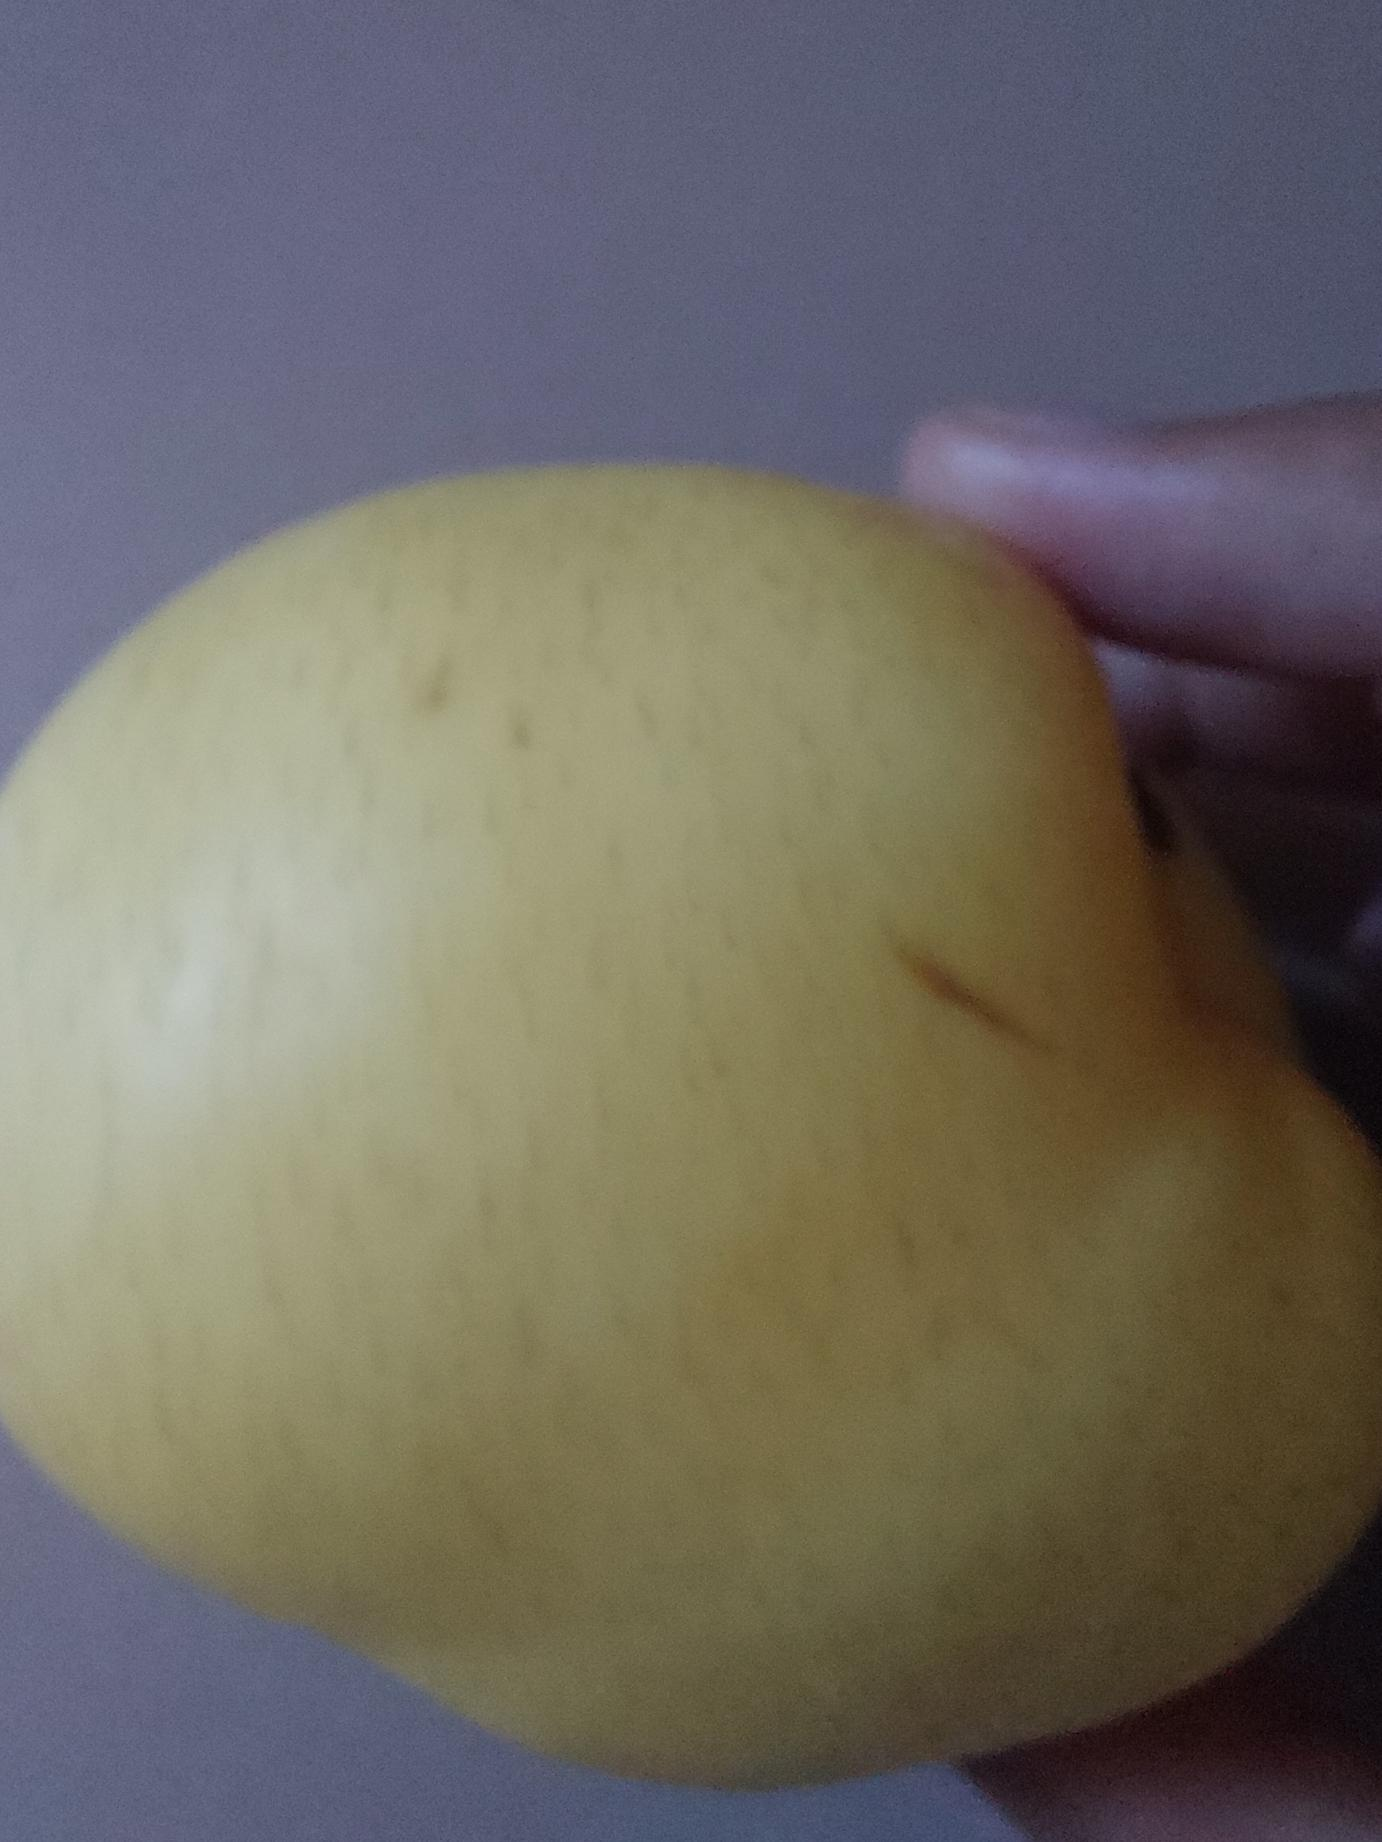Good Pear: (0, 710, 1382, 1796)
